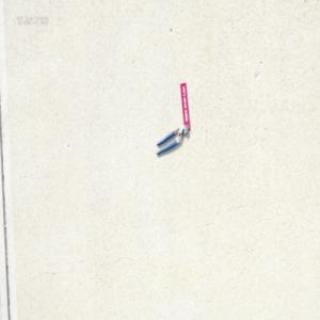LuggageTagtrack_idkeyframe: (179, 80, 190, 129)
Pliertrack_idkeyframe: (154, 123, 188, 155)
